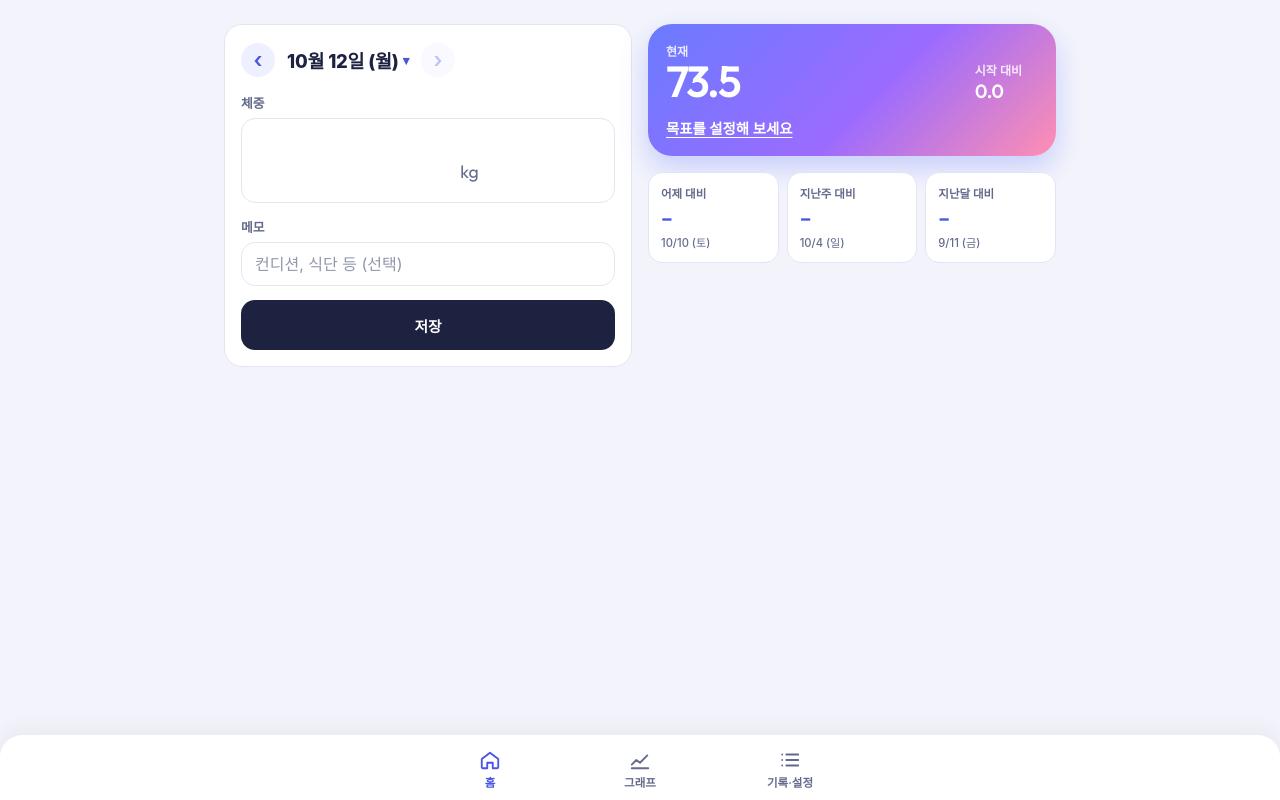
home screen › swipes horizontally to change the day, ignoring vertical drags and the future
Expected: the navigation bar is shown, [0,735,1279,799]
Press the mouse on the form named "체중(kg)" at (428, 196), box [224,24,632,367]
Expected: the button "10월 12일 (월) ▾" is shown, [279,41,417,79]
Press the mouse on the form named "체중(kg)" at (428, 196), box [224,24,632,367]
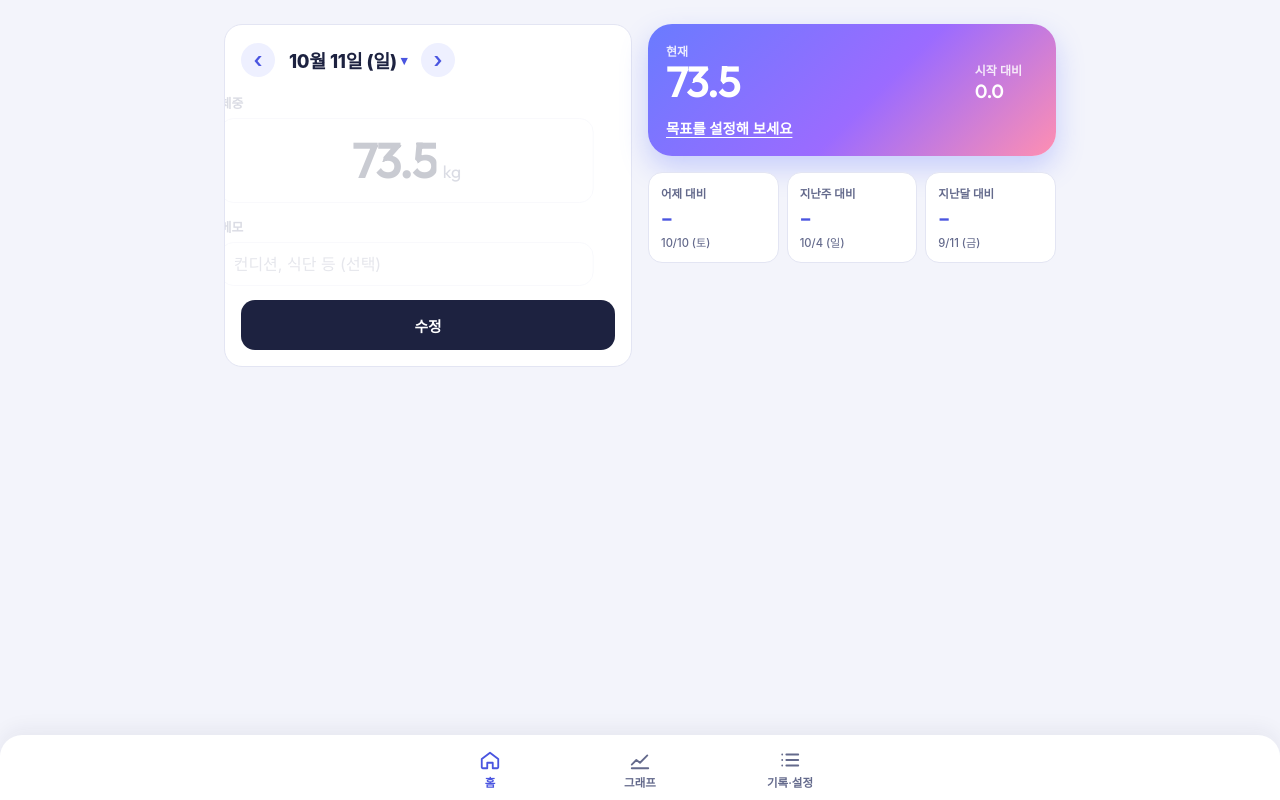
Expected: the field labelled "체중(kg)" holds "73.5", [358,133,443,188]
Expected: the button "10월 11일 (일) ▾" is shown, [279,41,417,79]
Press the mouse on the form named "체중(kg)" at (428, 196), box [224,24,632,367]
Expected: the button "10월 11일 (일) ▾" is shown, [279,41,417,79]
Press the mouse on the form named "체중(kg)" at (428, 196), box [224,24,632,367]
Expected: the button "10월 11일 (일) ▾" is shown, [279,41,417,79]
Press the mouse on the form named "체중(kg)" at (428, 196), box [224,24,632,367]
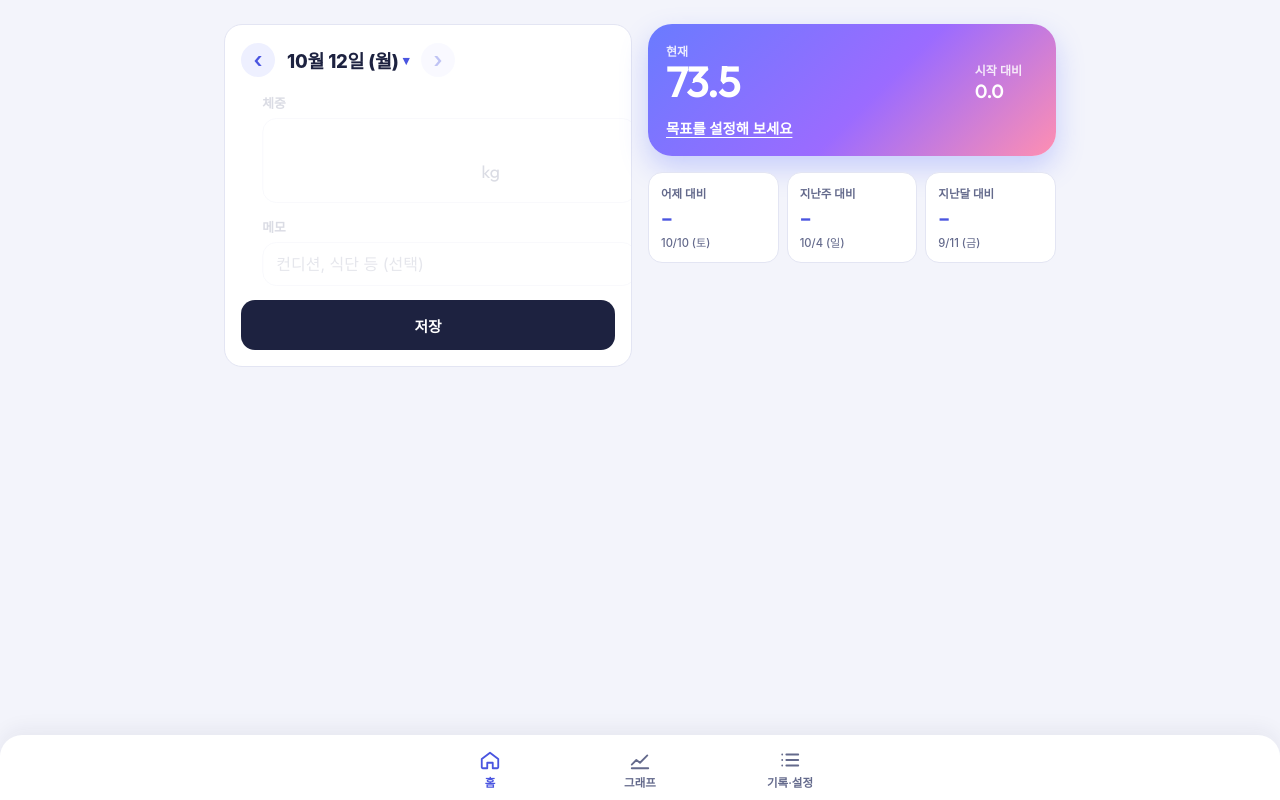
Expected: the button "10월 12일 (월) ▾" is shown, [279,41,417,79]
